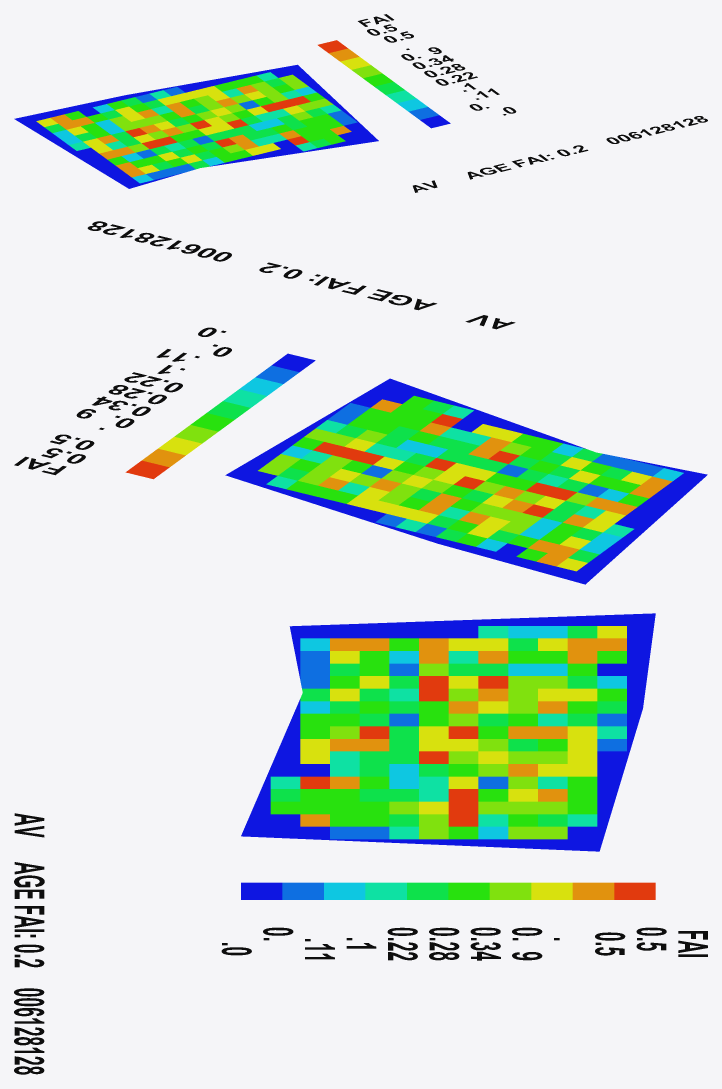
The model's file is example1_fai.dae.
3 views of the same model, one above another, from view 1: azimuth 30°, elevation 25°; view 2: azimuth 150°, elevation 25°; view 3: azimuth 270°, elevation 25° (orthographic). The views are drawn at different scales.
Visible parts, largest first — view 1: node0 (×11); view 2: node0 (×11); view 3: node0 (×21).
Boxes of the visible parts, x1,y1,x2,y2 form: node0 (×11): [14, 14, 707, 192]; node0 (×11): [14, 221, 707, 584]; node0 (×21): [14, 613, 707, 1074].
Bounding box in the file's own units: 3675 × 2337 × 1e-06.
